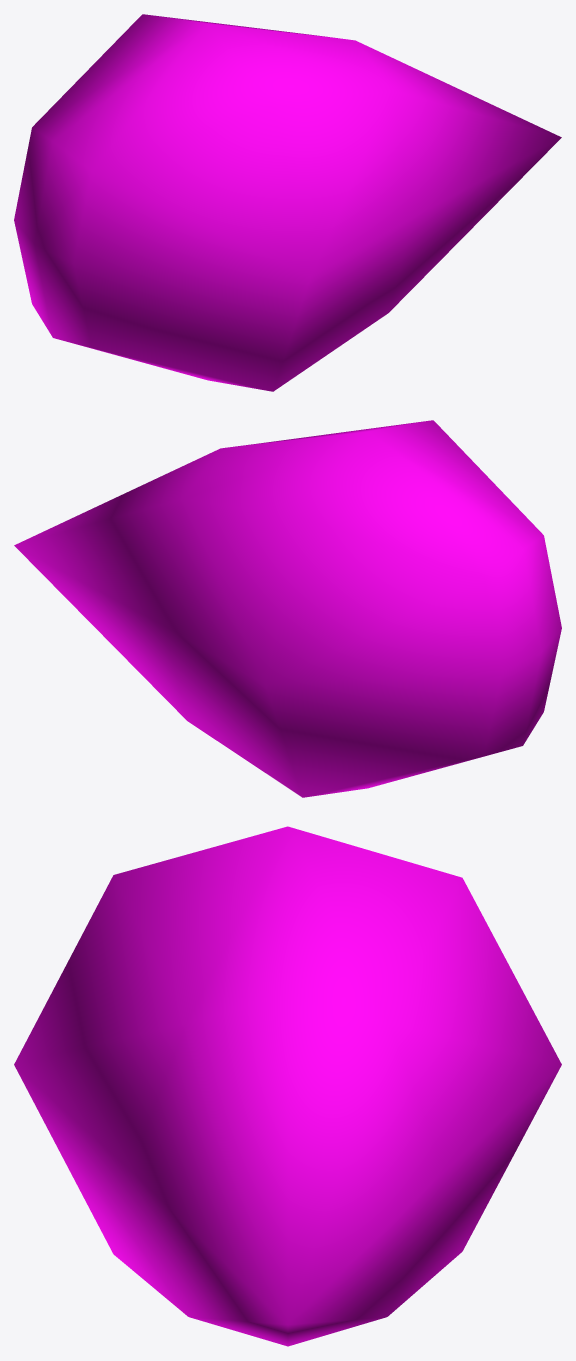
File: carrot_meshCollider.fbx
The picture shows the model from 3 angles, top to bottom: view 1: azimuth 30°, elevation 25°; view 2: azimuth 150°, elevation 25°; view 3: azimuth 270°, elevation 25°; orthographic projection. The views are drawn at different scales.
Parts seen in each view (by area): view 1: foods_carrot_meshCollider; view 2: foods_carrot_meshCollider; view 3: foods_carrot_meshCollider.
Boxes of the visible parts, box(x1,y1,x2,y2) form: foods_carrot_meshCollider: box(14, 14, 561, 391); foods_carrot_meshCollider: box(14, 420, 561, 797); foods_carrot_meshCollider: box(14, 826, 561, 1346).
Bounding box in the file's own units: 14.15 × 9.15 × 9.53.
